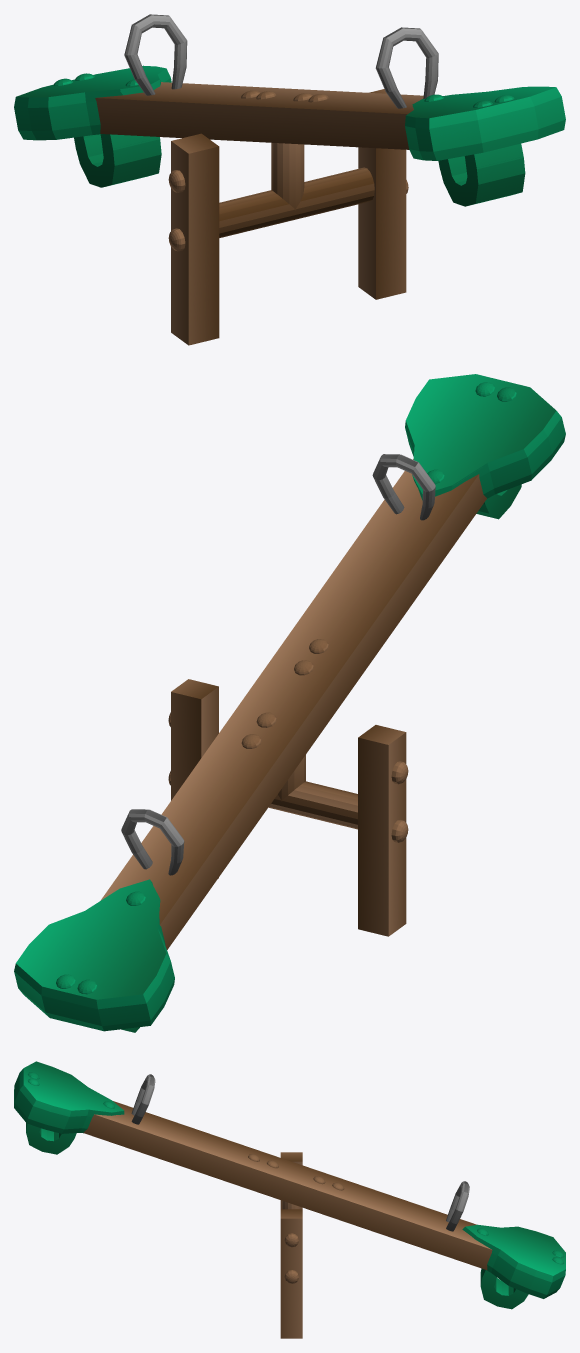
Rendered from Balancín.fbx.
3 renders of one model, top to bottom at view 1: azimuth 30°, elevation 25°; view 2: azimuth 150°, elevation 25°; view 3: azimuth 270°, elevation 25°, orthographic. The views are drawn at different scales.
Visible parts, largest first — view 1: Circle, Cube.002, Torus, Cylinder, Torus.005; view 2: Torus, Circle, Cube.002, Torus.005, Cylinder; view 3: Torus, Circle, Cube.002, Torus.005.
Part boxes in pixels (box(x1,y1,x2,y2)): Circle: box(14, 65, 565, 206); Cube.002: box(168, 89, 408, 345); Torus: box(95, 82, 423, 149); Cylinder: box(219, 142, 374, 237); Torus.005: box(124, 14, 438, 108); Torus: box(100, 459, 486, 949); Circle: box(14, 374, 565, 1032); Cube.002: box(168, 679, 408, 936); Torus.005: box(121, 454, 435, 875); Cylinder: box(268, 755, 357, 829); Torus: box(83, 1101, 492, 1270); Circle: box(14, 1061, 565, 1309); Cube.002: box(280, 1152, 302, 1338); Torus.005: box(131, 1074, 469, 1231).
Bounding box in the file's own units: 433 × 644 × 1406.
Materials: 3 (3 with a texture image).
